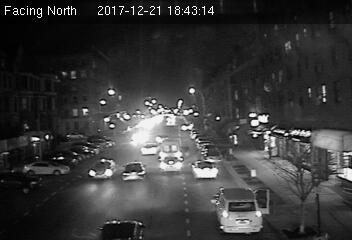car: (213, 186, 269, 233), (119, 161, 149, 181), (189, 160, 220, 179), (88, 159, 117, 179), (158, 157, 182, 173), (141, 143, 160, 156)
truck: (159, 140, 183, 159)
